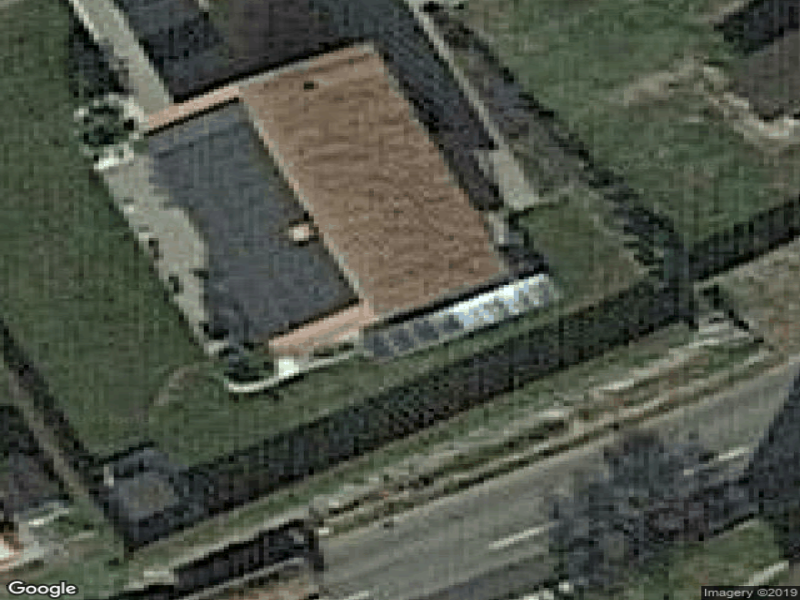pv: (142, 101, 364, 339)
